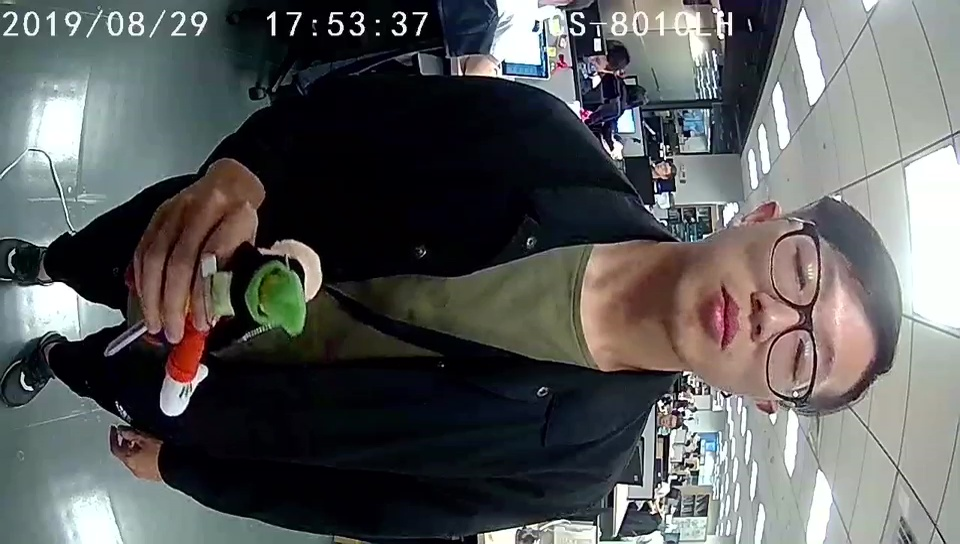goofy: (156, 237, 326, 417)
